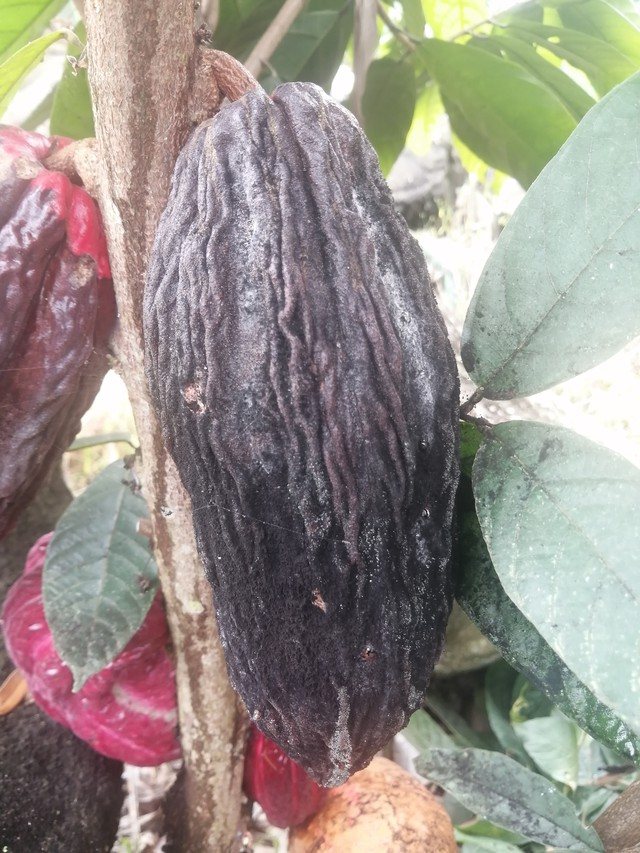moniliophthora roreri: (138, 77, 470, 793)
